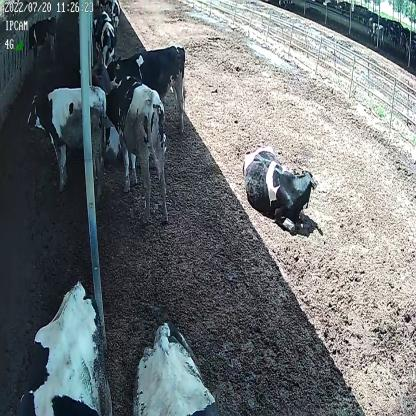cow: (88, 60, 168, 230), (25, 86, 109, 197), (108, 46, 189, 133), (241, 143, 320, 230), (94, 10, 118, 67)
